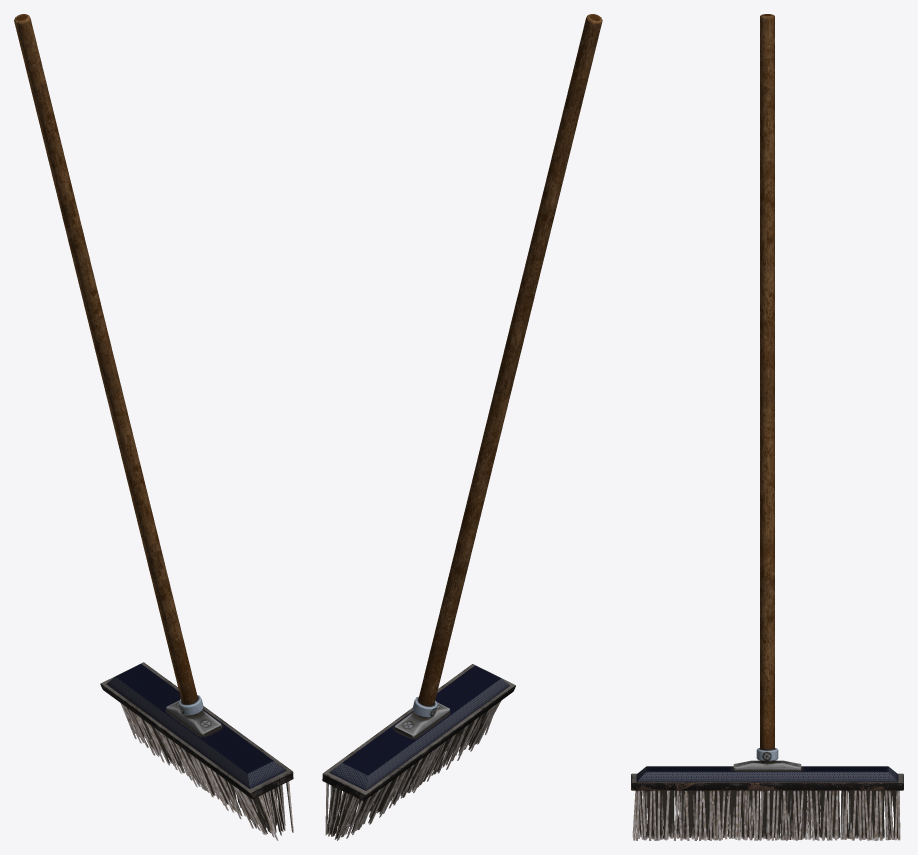
Rendered from Bloom.fbx.
3 renders of one model, left to right at view 1: azimuth 30°, elevation 25°; view 2: azimuth 150°, elevation 25°; view 3: azimuth 270°, elevation 25°, orthographic. The views are drawn at different scales.
Parts seen in each view (by area): view 1: Object_0; view 2: Object_0; view 3: Object_0.
Boxes of the visible parts, x1,y1,x2,y2 form: Object_0: (14, 14, 293, 840); Object_0: (322, 14, 602, 840); Object_0: (631, 14, 903, 840).
Size of the model in its own units: 0.4957 by 0.6225 by 1.87.
Materials: 1 (1 with a texture image).
